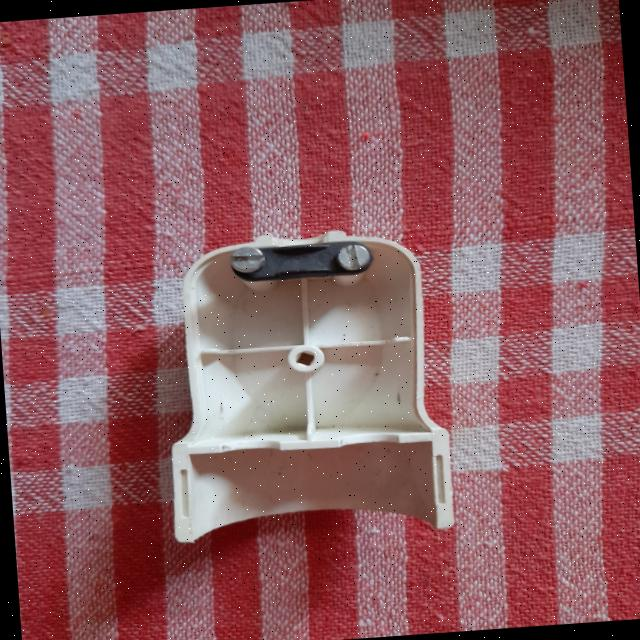Slotted: (334, 243, 372, 271), (228, 245, 264, 273)
